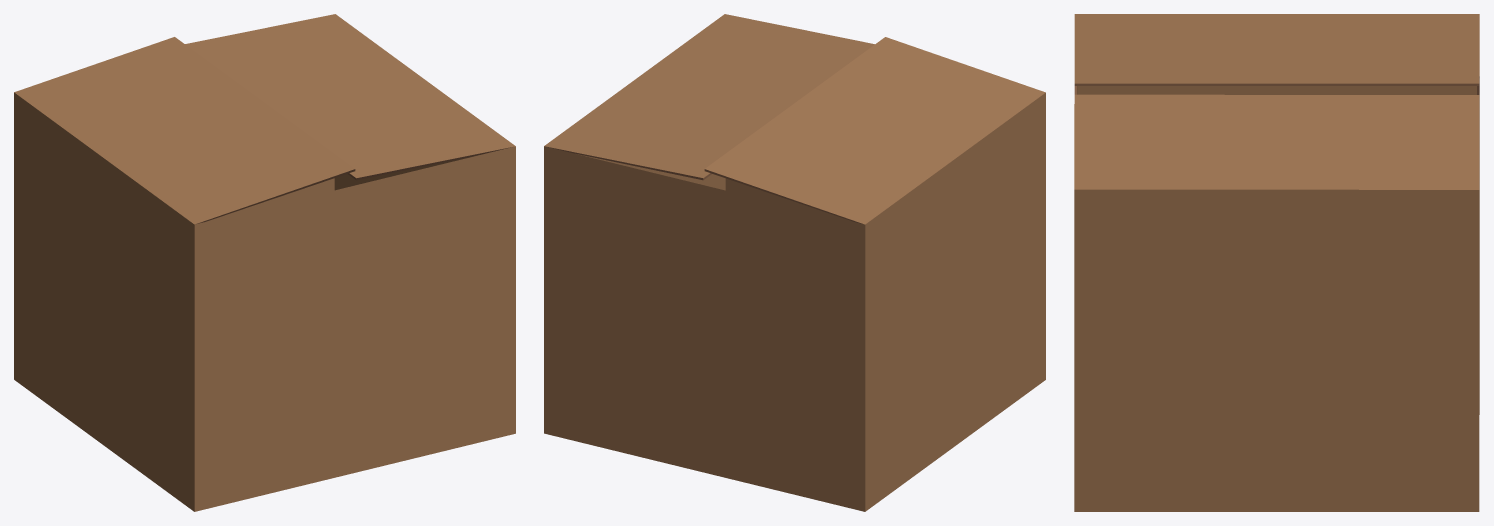
Rendered from Paper_Box.003.fbx.
The picture shows the model from 3 angles, left to right: view 1: azimuth 30°, elevation 25°; view 2: azimuth 150°, elevation 25°; view 3: azimuth 270°, elevation 25°; orthographic projection. The views are drawn at different scales.
Parts seen in each view (by area): view 1: Paper_Box.003; view 2: Paper_Box.003; view 3: Paper_Box.003.
Part boxes in pixels (box(x1,y1,x2,y2)): Paper_Box.003: box(14, 14, 515, 511); Paper_Box.003: box(544, 14, 1045, 511); Paper_Box.003: box(1074, 14, 1479, 511).
Bounding box in the file's own units: 31.97 × 28.86 × 31.13.
